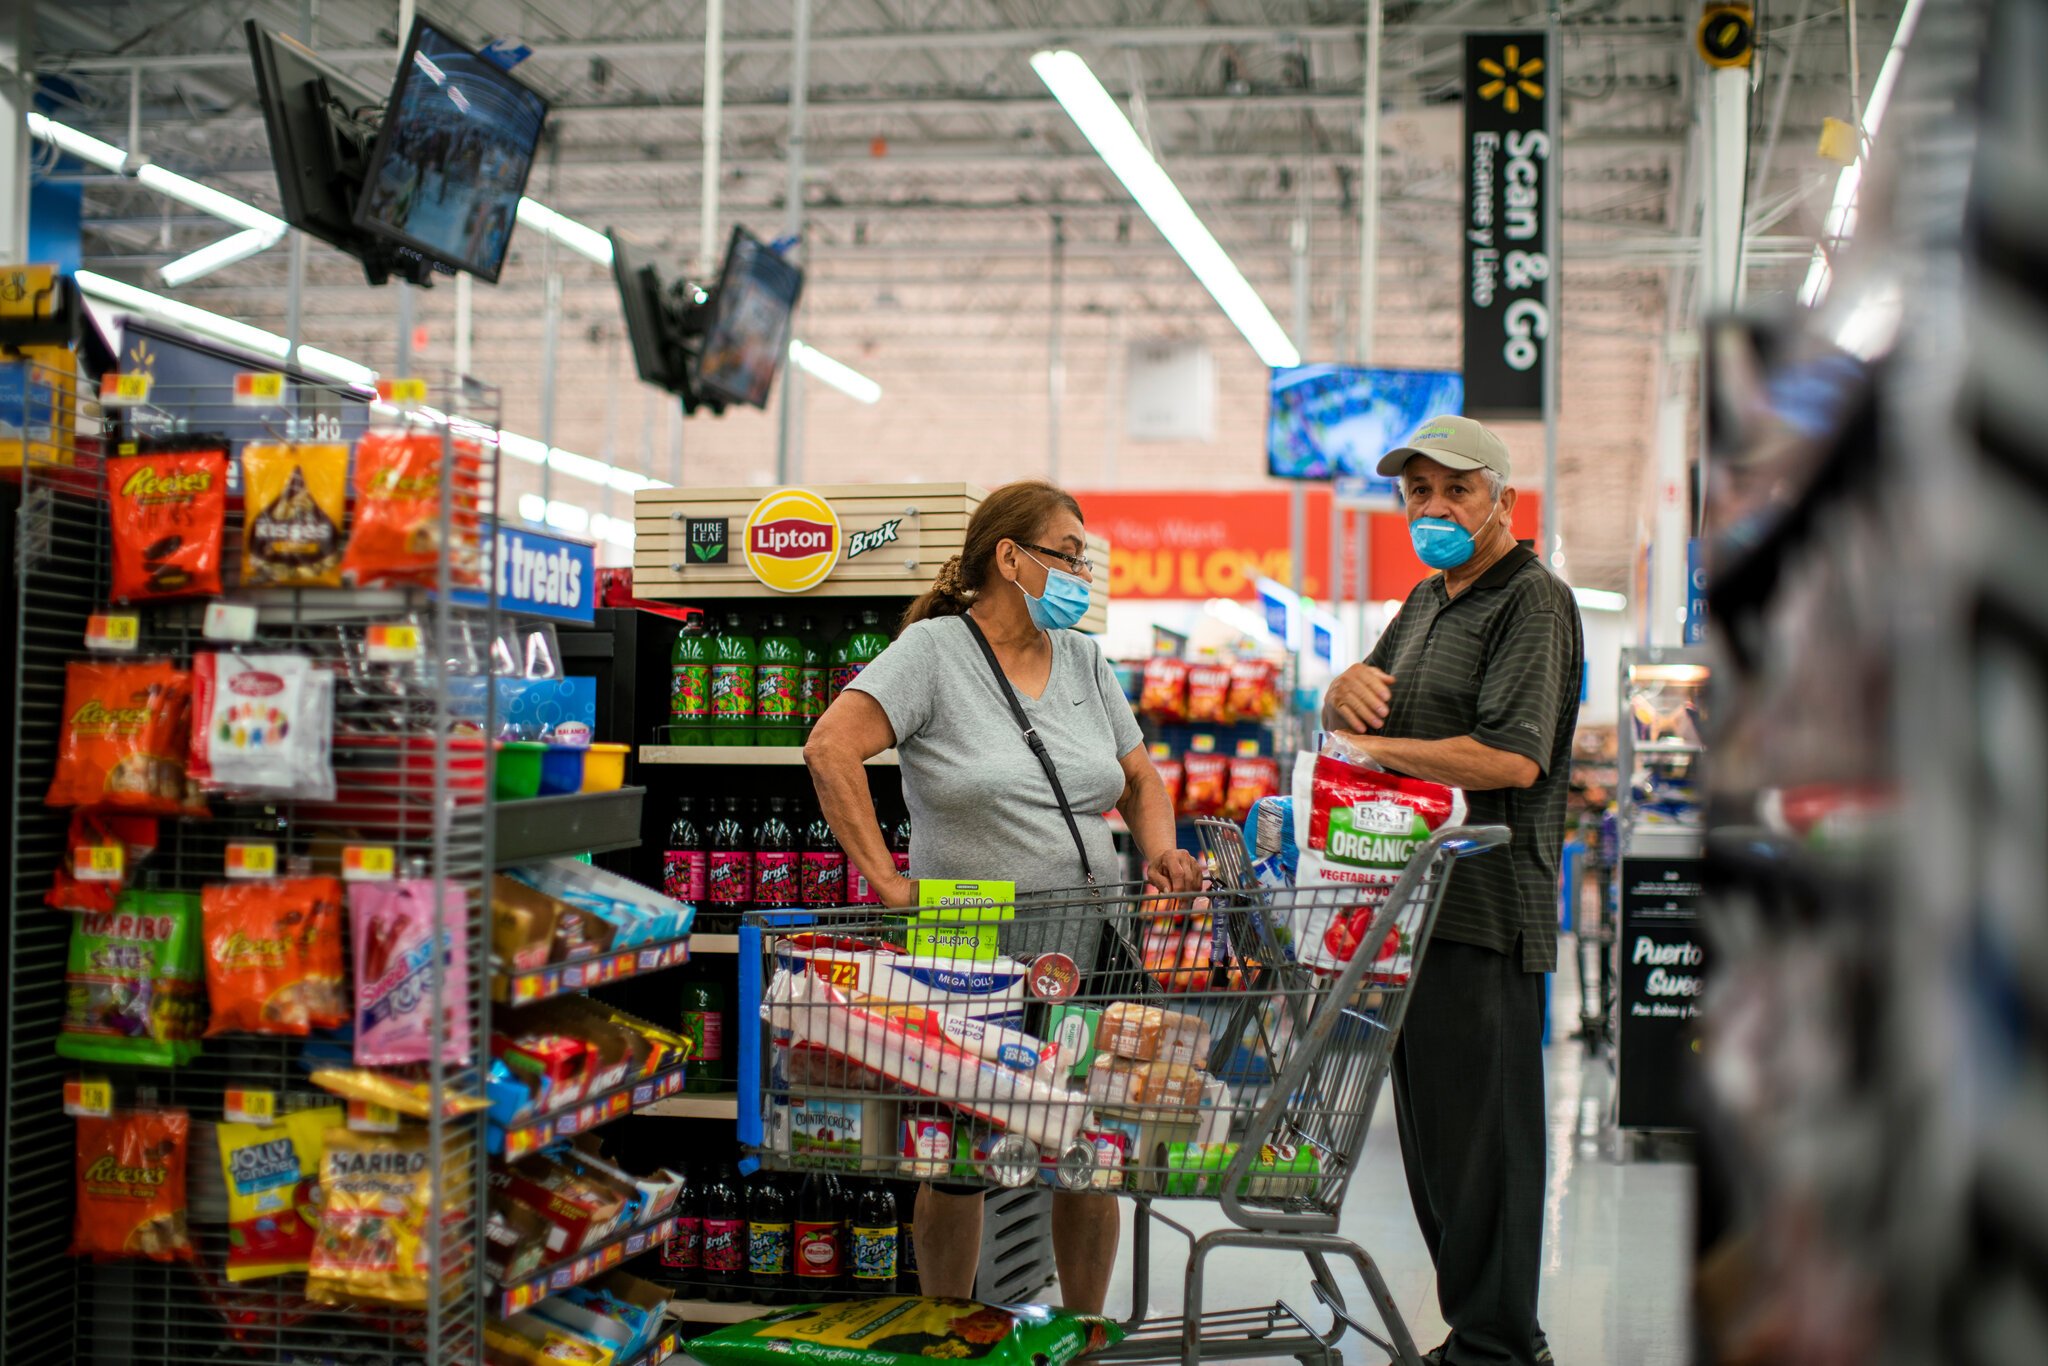with_incorrect_mask: (1411, 463, 1476, 565), (1019, 537, 1093, 624)
